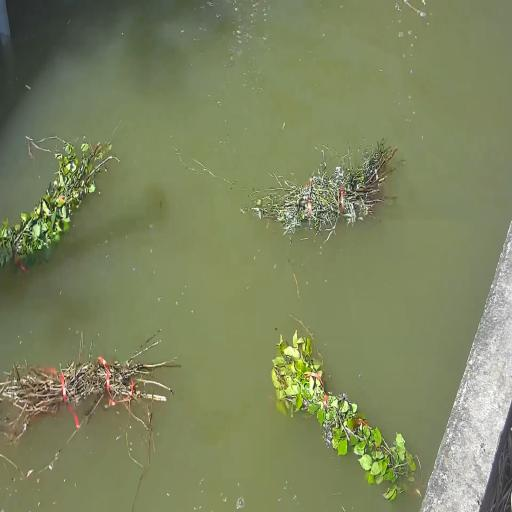twig: (262, 310, 420, 499), (0, 332, 176, 433), (0, 121, 114, 270), (254, 140, 405, 236)
